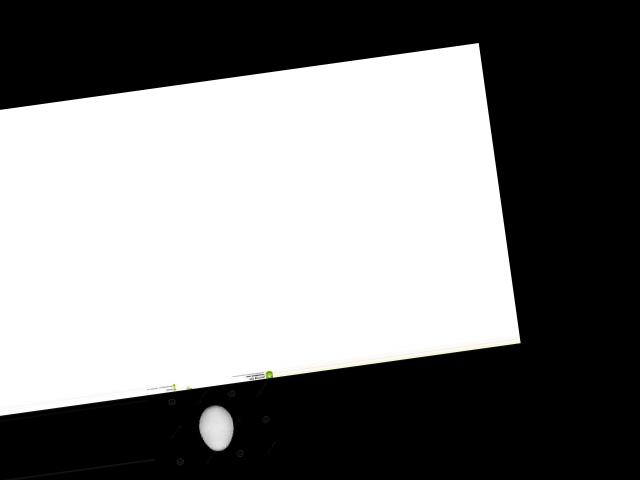egg: (195, 402, 236, 453)
